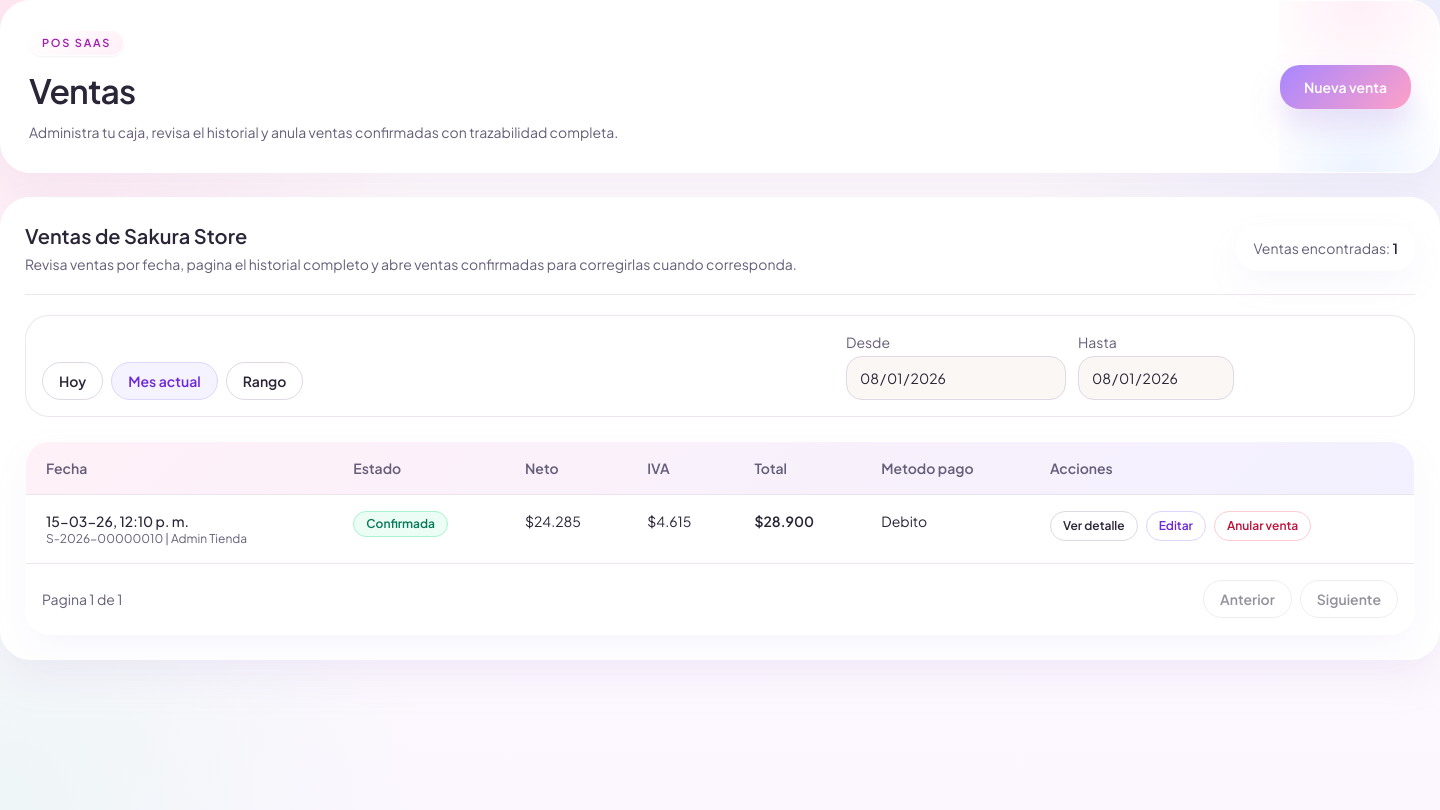
Test case: SalesPage › muestra el detalle de venta con tienda y datos de comision
Step 1. Click the button "Ver detalle" → [1094, 526], box [1050, 511, 1138, 541]
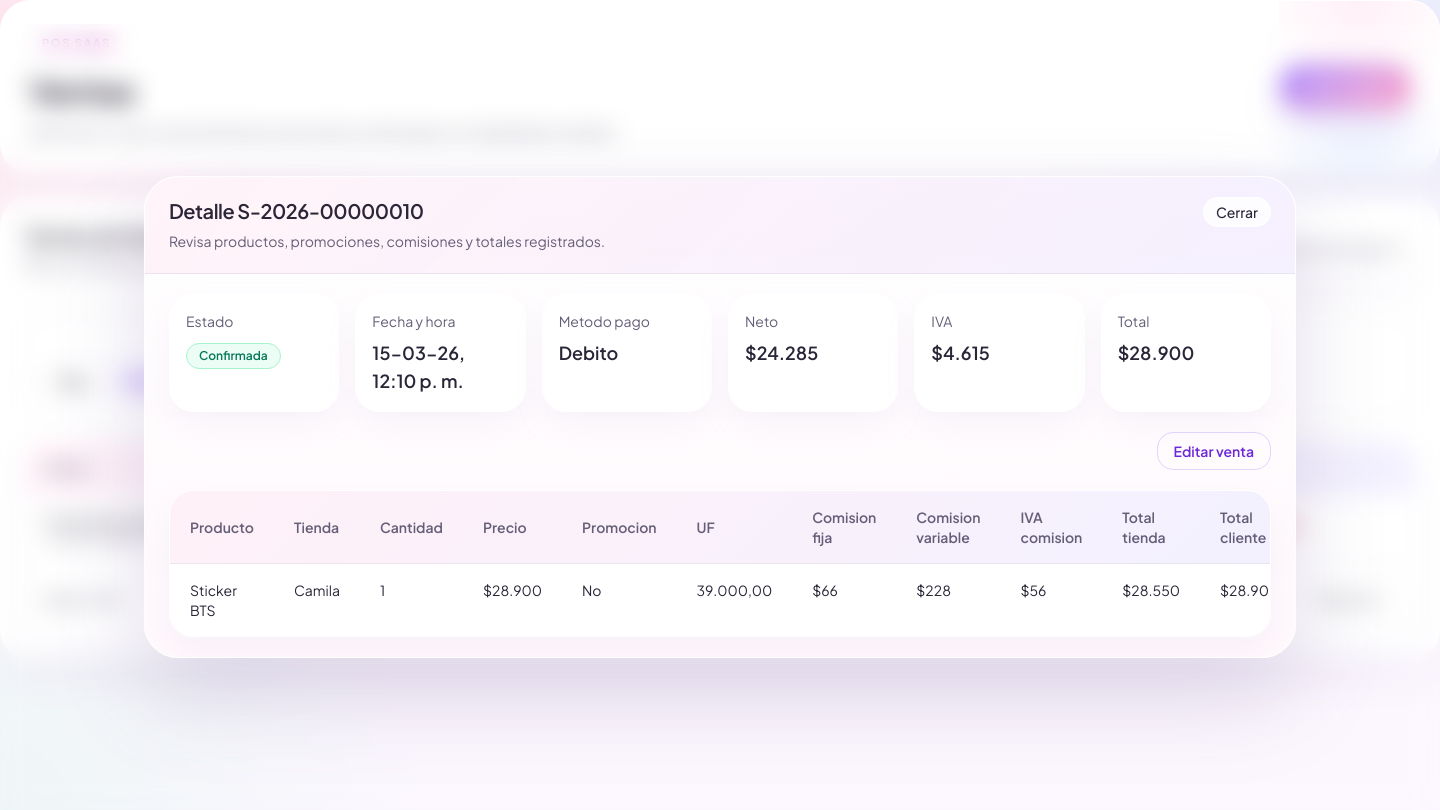
Now the heading "Detalle S-2026-00000010" is shown, box [169, 198, 424, 223]
Now the text "Camila" is shown, box [274, 564, 360, 636]
Now the column heading "Comision fija" is shown, box [792, 491, 896, 564]
